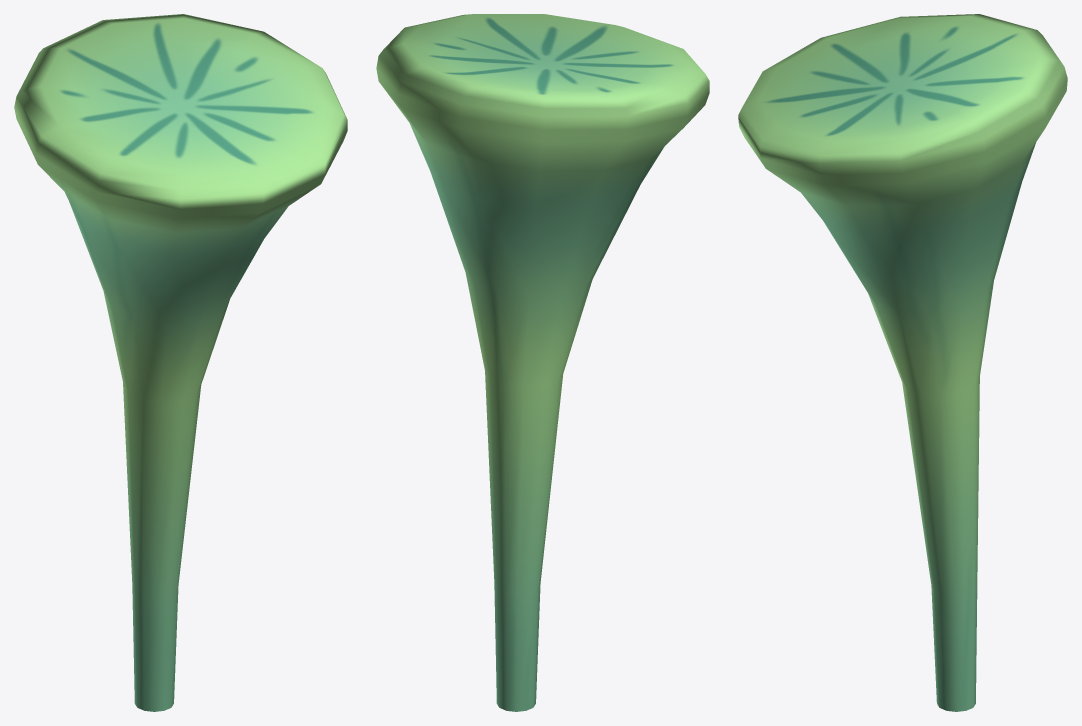
Rendered from GiantCurniculus_02.fbx.
3 views of the same model, side by side, from view 1: azimuth 30°, elevation 25°; view 2: azimuth 150°, elevation 25°; view 3: azimuth 270°, elevation 25° (orthographic).
Parts seen in each view (by area): view 1: GiantCurniculus_02; view 2: GiantCurniculus_02; view 3: GiantCurniculus_02.
Boxes of the visible parts, x1,y1,x2,y2 form: GiantCurniculus_02: (14,14,347,711); GiantCurniculus_02: (376,14,709,711); GiantCurniculus_02: (738,14,1067,711).
Size of the model in its own units: 586 by 1255 by 580.
